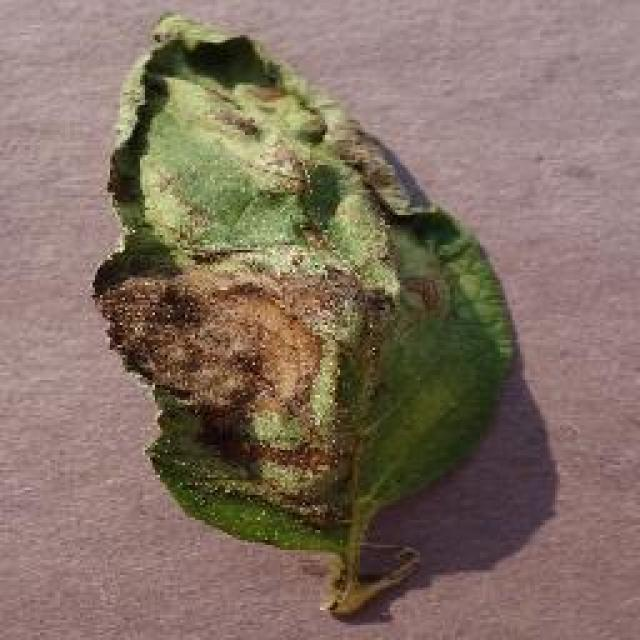late_blight: (90, 10, 520, 620)
